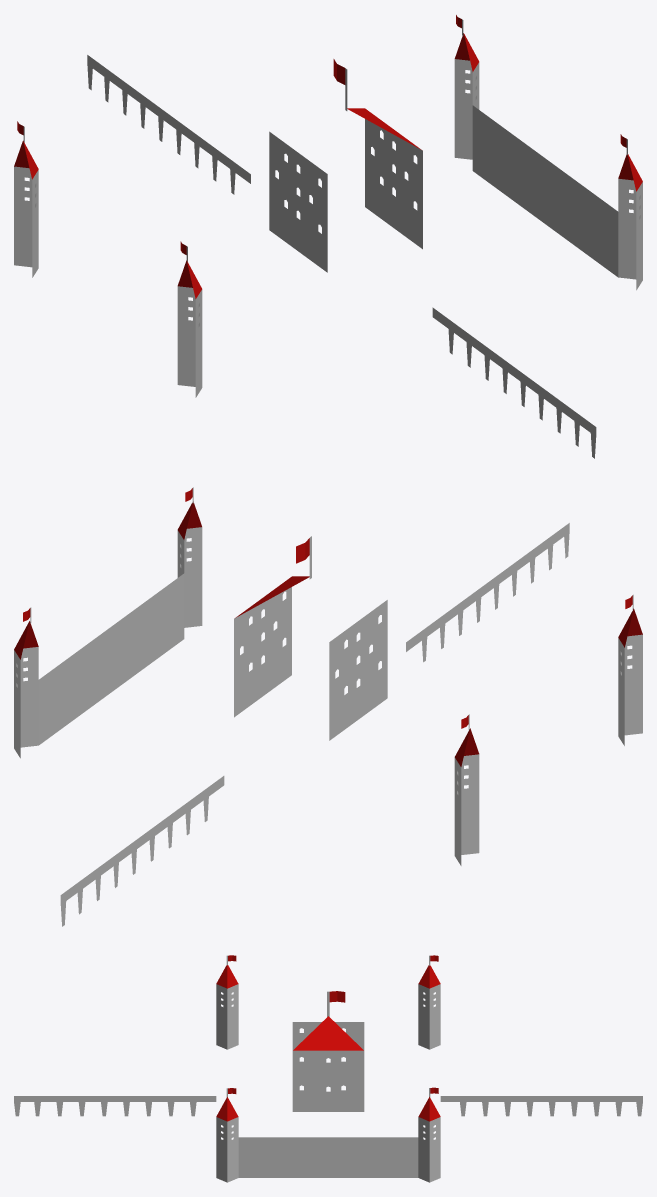
The model's file is замок 1.fbx.
The picture shows the model from 3 angles, top to bottom: view 1: azimuth 30°, elevation 25°; view 2: azimuth 150°, elevation 25°; view 3: azimuth 270°, elevation 25°; orthographic projection. The views are drawn at different scales.
Visible parts, largest first — view 1: Плоскость.001; view 2: Плоскость.001; view 3: Плоскость.001.
Part boxes in pixels (x1,y1,x2,y2): Плоскость.001: [14, 15, 642, 458]; Плоскость.001: [14, 487, 642, 926]; Плоскость.001: [14, 955, 642, 1182].
Bounding box in the file's own units: 14.51 × 6.2 × 28.
